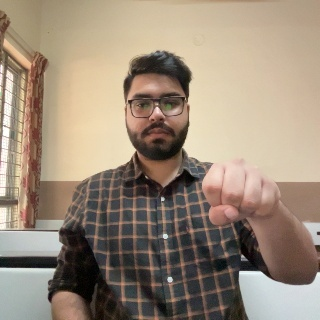Face: (122, 69, 190, 158)
Yes: (206, 157, 284, 239)
